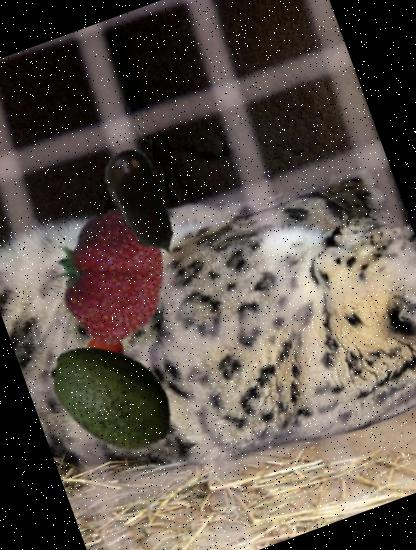Avocado: (26, 310, 198, 482)
Eggplant: (66, 126, 219, 279)
Nectarine: (61, 324, 144, 407)
Strawberry: (22, 189, 197, 364)
